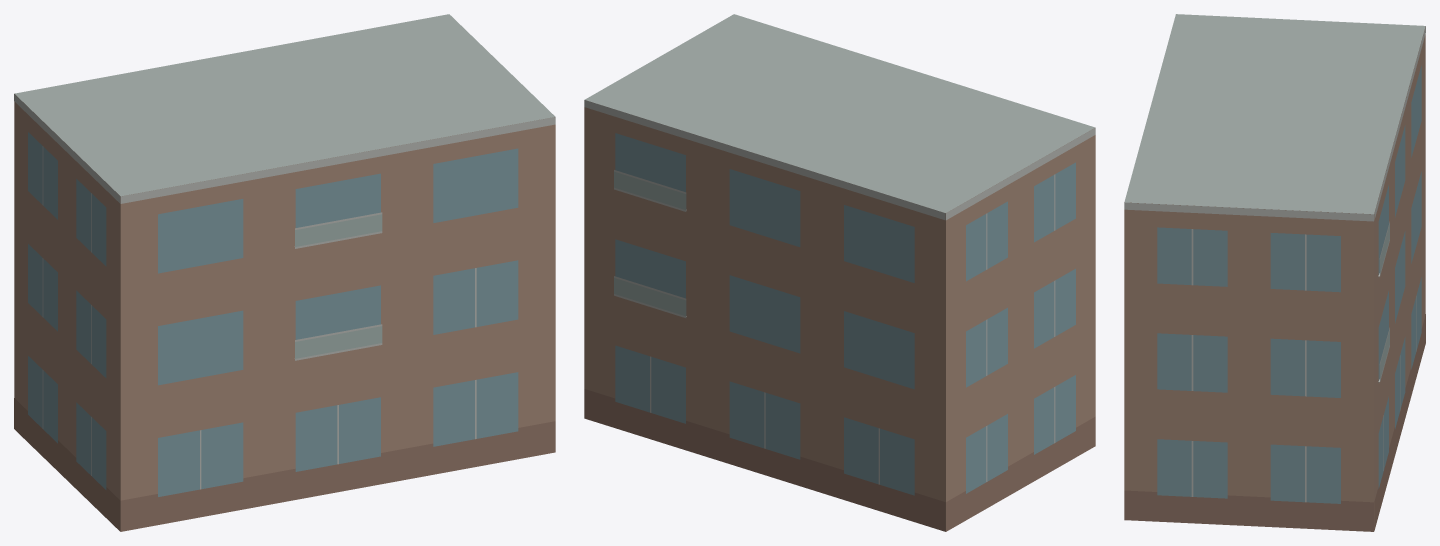
The model's file is survey-upis-32685803.glb.
3 views of the same model, side by side, from view 1: azimuth 30°, elevation 25°; view 2: azimuth 150°, elevation 25°; view 3: azimuth 270°, elevation 25° (orthographic). The views are drawn at different scales.
Parts seen in each view (by area): view 1: survey-upis-32685803.tmp; view 2: survey-upis-32685803.tmp; view 3: survey-upis-32685803.tmp.
Part boxes in pixels (<box>): survey-upis-32685803.tmp: <box>14,14,555,531</box>; survey-upis-32685803.tmp: <box>584,14,1095,531</box>; survey-upis-32685803.tmp: <box>1124,14,1425,531</box>.
Bounding box in the file's own units: 14.48 × 10.7 × 9.21.
